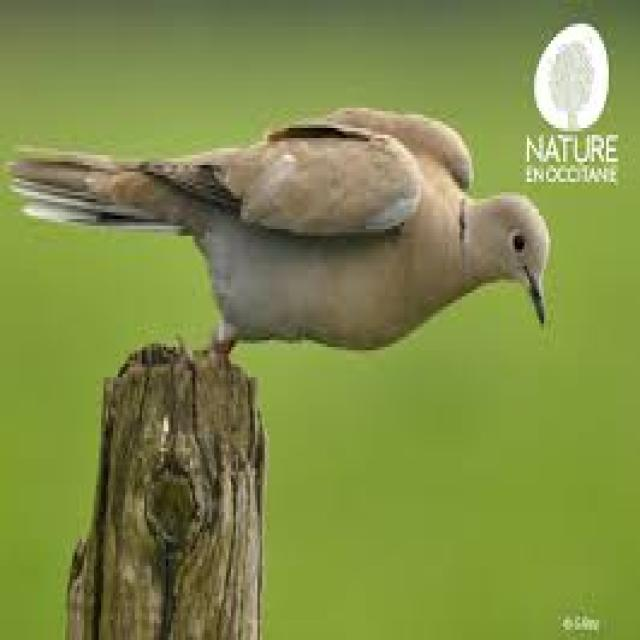pigeon: (1, 82, 563, 379)
